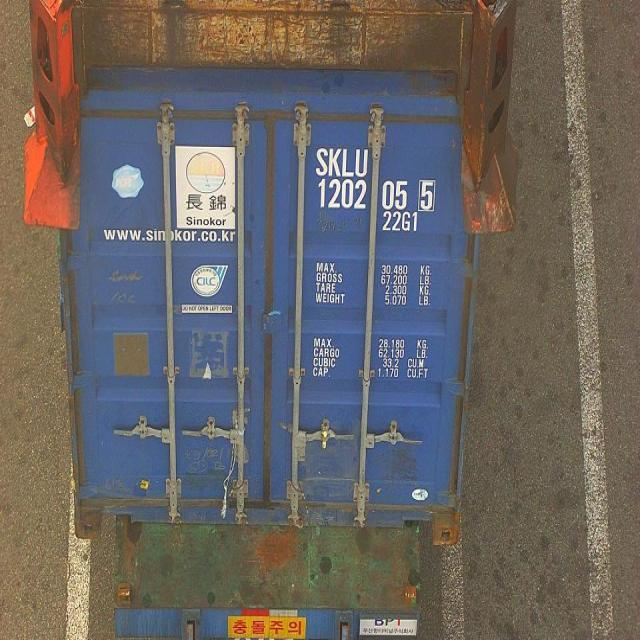ISO: (384, 214, 417, 234)
container_number: (320, 150, 444, 206)
